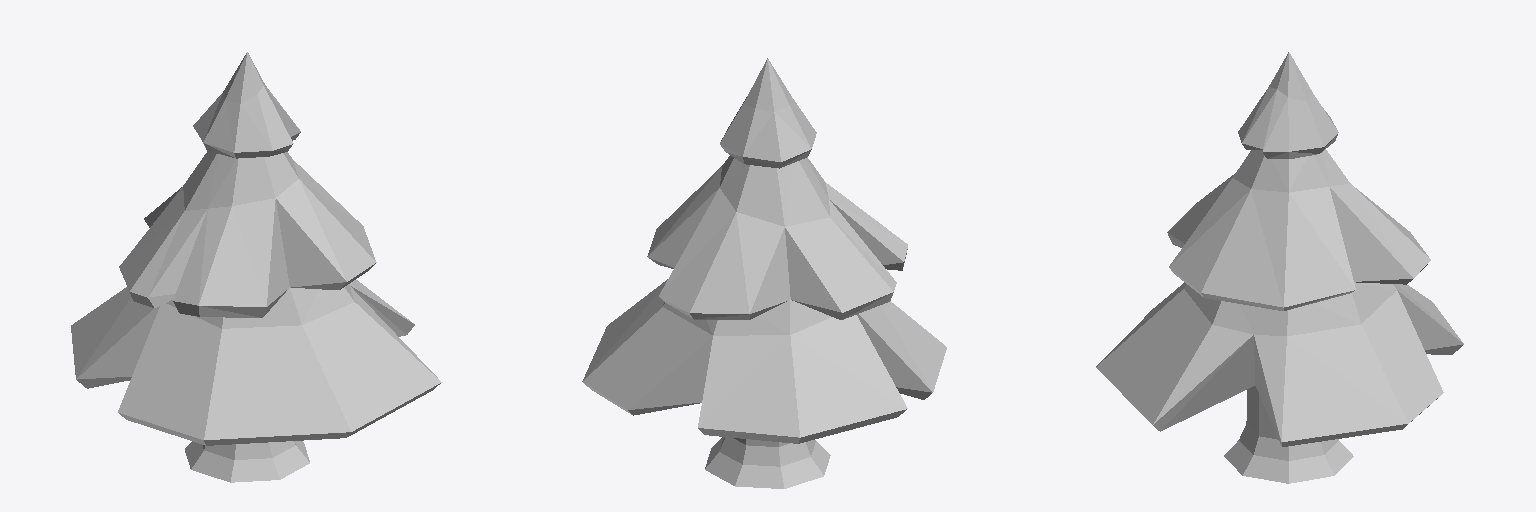
Rendered from winter-tree9.obj.
3 renders of one model, left to right at view 1: azimuth 30°, elevation 25°; view 2: azimuth 150°, elevation 25°; view 3: azimuth 270°, elevation 25°, orthographic.
Visible parts, largest first — view 1: Cylinder.013_Cylinder.014; view 2: Cylinder.013_Cylinder.014; view 3: Cylinder.013_Cylinder.014.
Part boxes in pixels (left/top/right/bottom): Cylinder.013_Cylinder.014: left=71, top=52, right=441, bottom=482; Cylinder.013_Cylinder.014: left=582, top=58, right=946, bottom=488; Cylinder.013_Cylinder.014: left=1096, top=52, right=1463, bottom=483.
Size of the model in its own units: 3.15 by 3.8 by 3.14.